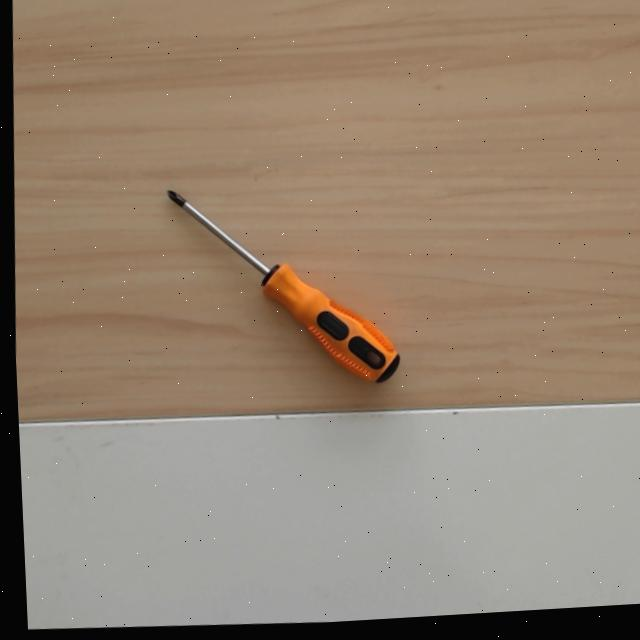Obeng-Besar: (158, 163, 408, 394)
